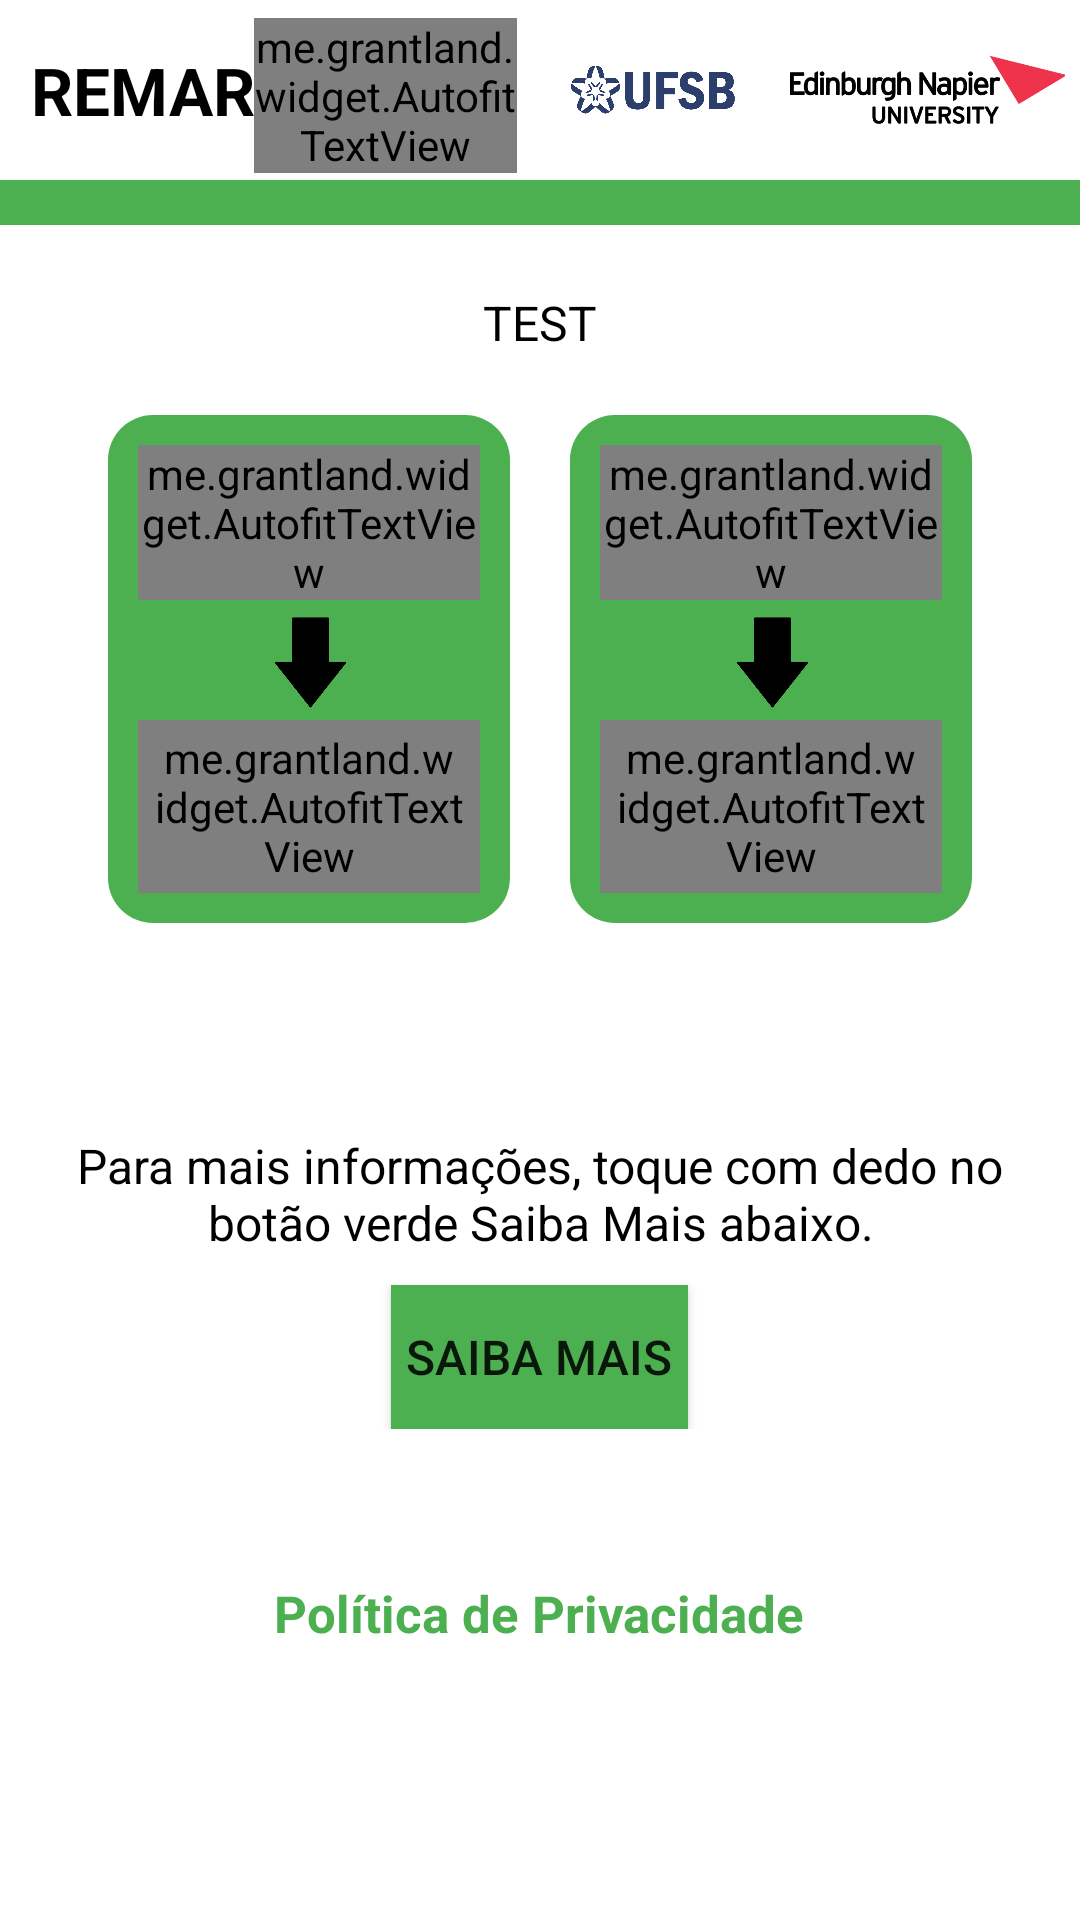

Icon bounding boxes for this 1080 × 1920 phone screenshot, format (x1=x1, y1=y1, x2=x2, y2=y2):
raster arrow down: (x1=275, y1=617, x2=346, y2=708), (x1=737, y1=617, x2=808, y2=708)
